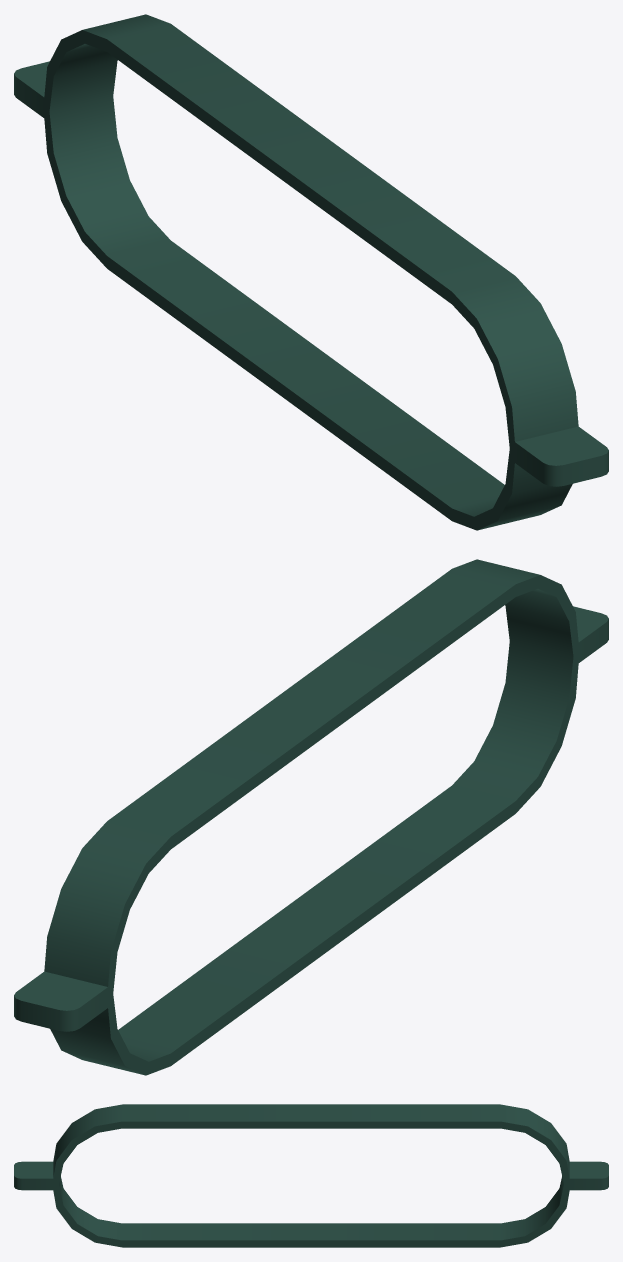
The model's file is PipeHolder_Ring01Long_Large.fbx.
3 views of the same model, one above another, from view 1: azimuth 30°, elevation 25°; view 2: azimuth 150°, elevation 25°; view 3: azimuth 270°, elevation 25° (orthographic). The views are drawn at different scales.
Parts seen in each view (by area): view 1: PipeHolder_Ring01Long_Large.001; view 2: PipeHolder_Ring01Long_Large.001; view 3: PipeHolder_Ring01Long_Large.001.
Boxes of the visible parts, bbox=[...] form: PipeHolder_Ring01Long_Large.001: bbox=[14, 14, 608, 530]; PipeHolder_Ring01Long_Large.001: bbox=[14, 559, 608, 1075]; PipeHolder_Ring01Long_Large.001: bbox=[14, 1104, 608, 1247].
Size of the model in its own units: 0.064 by 0.2203 by 0.9431.
